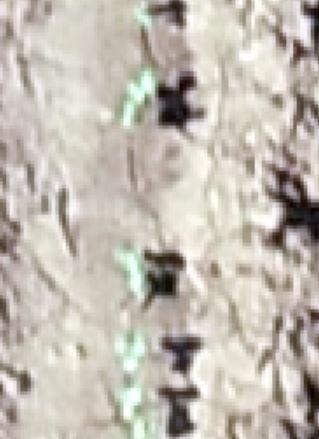cotton: (129, 394, 155, 432), (126, 85, 146, 121), (124, 252, 145, 284), (119, 339, 146, 362), (140, 66, 158, 94), (137, 6, 152, 27)
